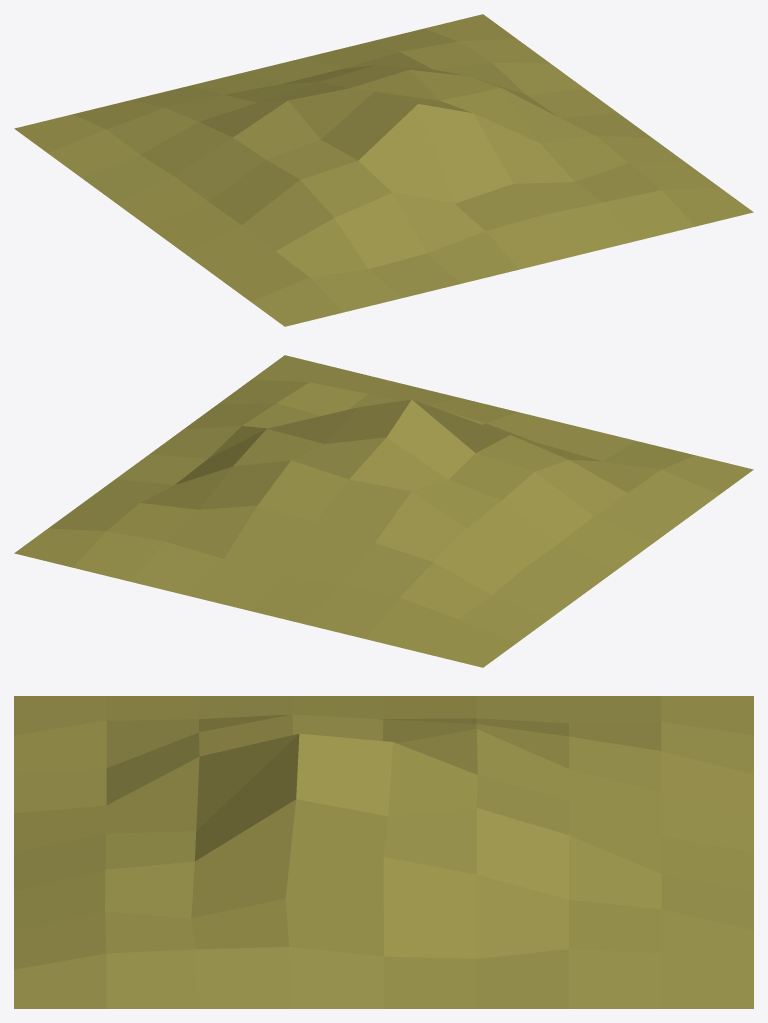
The model's file is Terrain_10_Yellow.fbx.
3 renders of one model, top to bottom at view 1: azimuth 30°, elevation 25°; view 2: azimuth 150°, elevation 25°; view 3: azimuth 270°, elevation 25°, orthographic. The views are drawn at different scales.
Parts seen in each view (by area): view 1: Terrain_10_Yellow; view 2: Terrain_10_Yellow; view 3: Terrain_10_Yellow.
Boxes of the visible parts, bbox=[...] form: Terrain_10_Yellow: bbox=[14, 14, 753, 326]; Terrain_10_Yellow: bbox=[14, 355, 753, 667]; Terrain_10_Yellow: bbox=[14, 696, 753, 1008].
Bounding box in the file's own units: 5000 × 902 × 5000.
